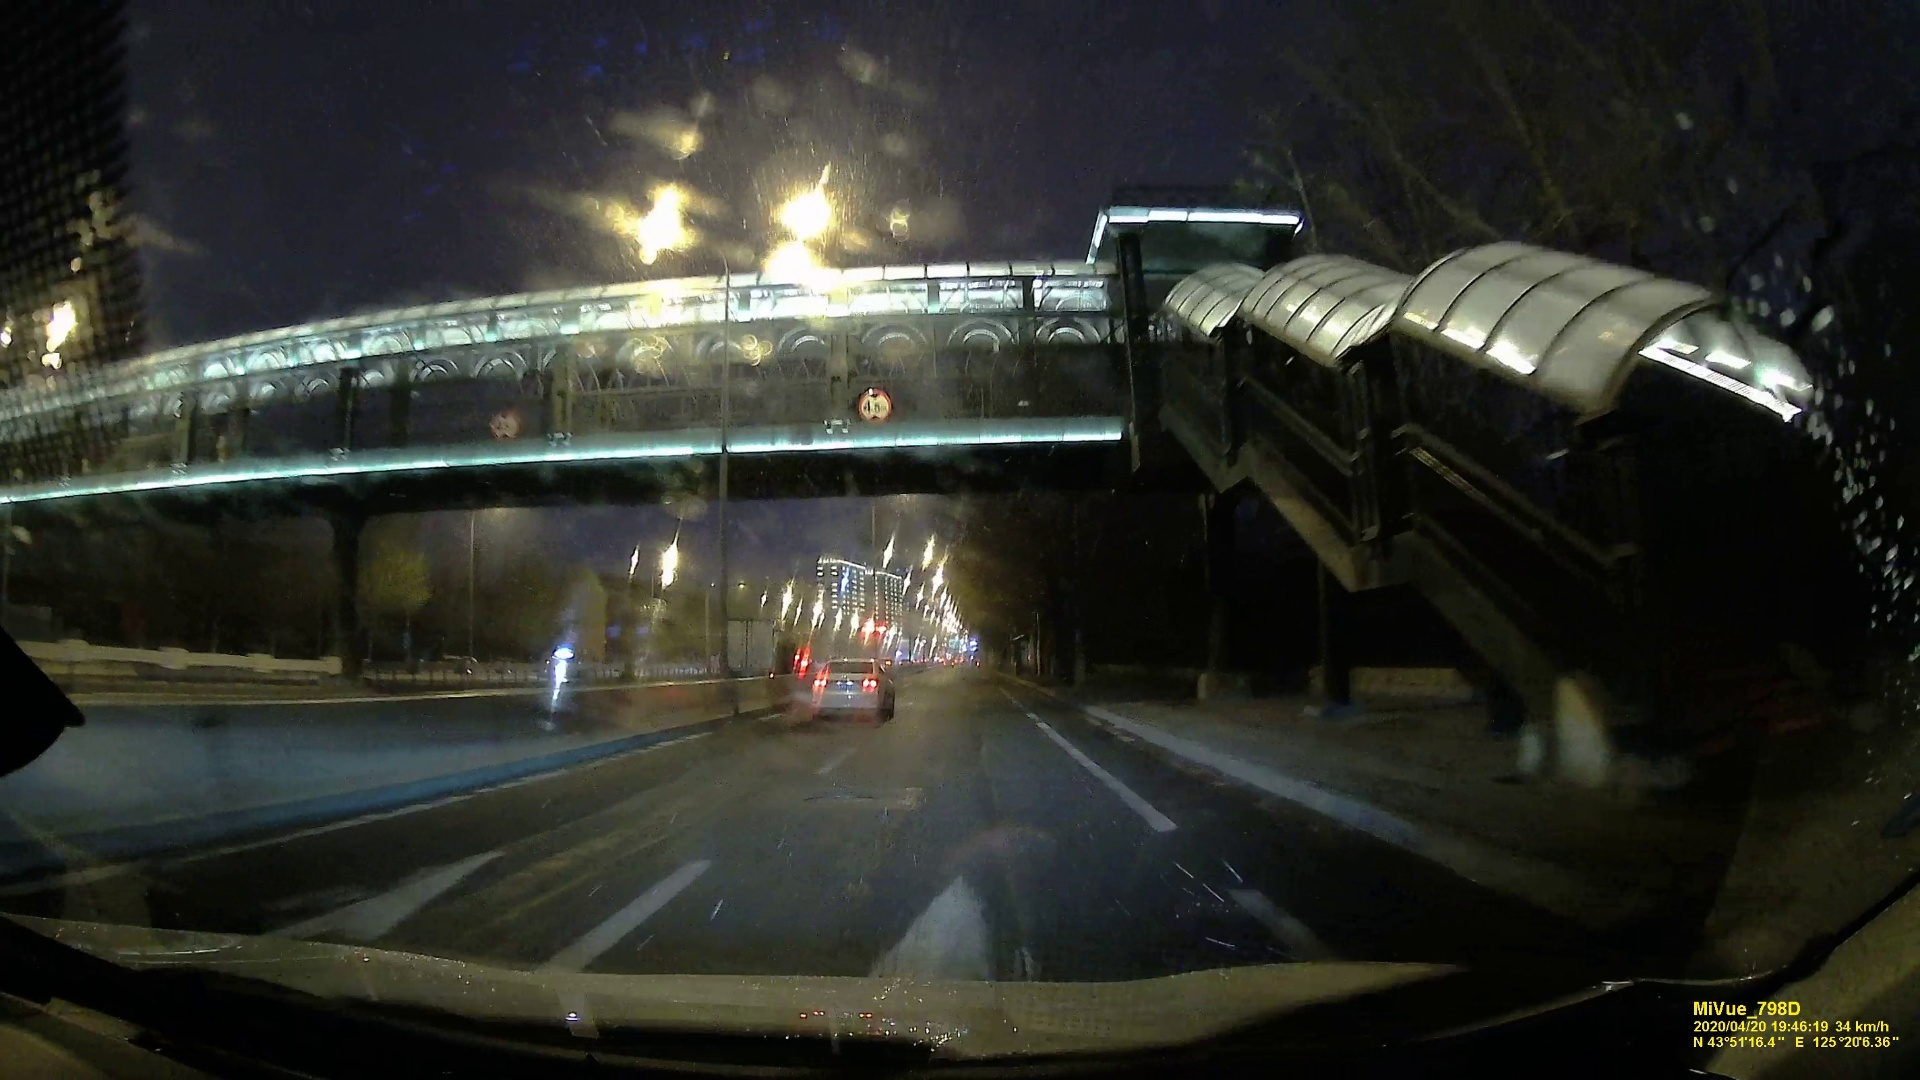traffic_sign: (858, 386, 890, 425)
vehicle: (812, 659, 890, 716)
